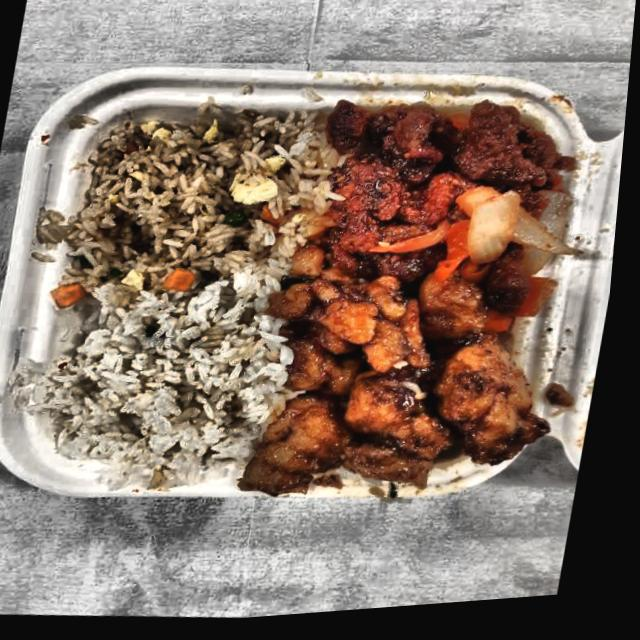Food: (242, 256, 584, 527), (307, 80, 605, 310), (60, 91, 350, 326), (34, 280, 308, 502)
